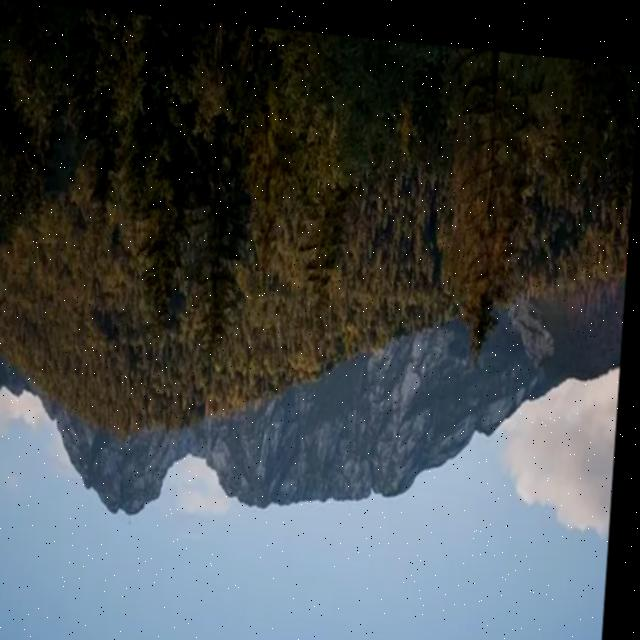Giewont: (54, 403, 205, 624)
Maly giewont: (0, 352, 12, 445)
